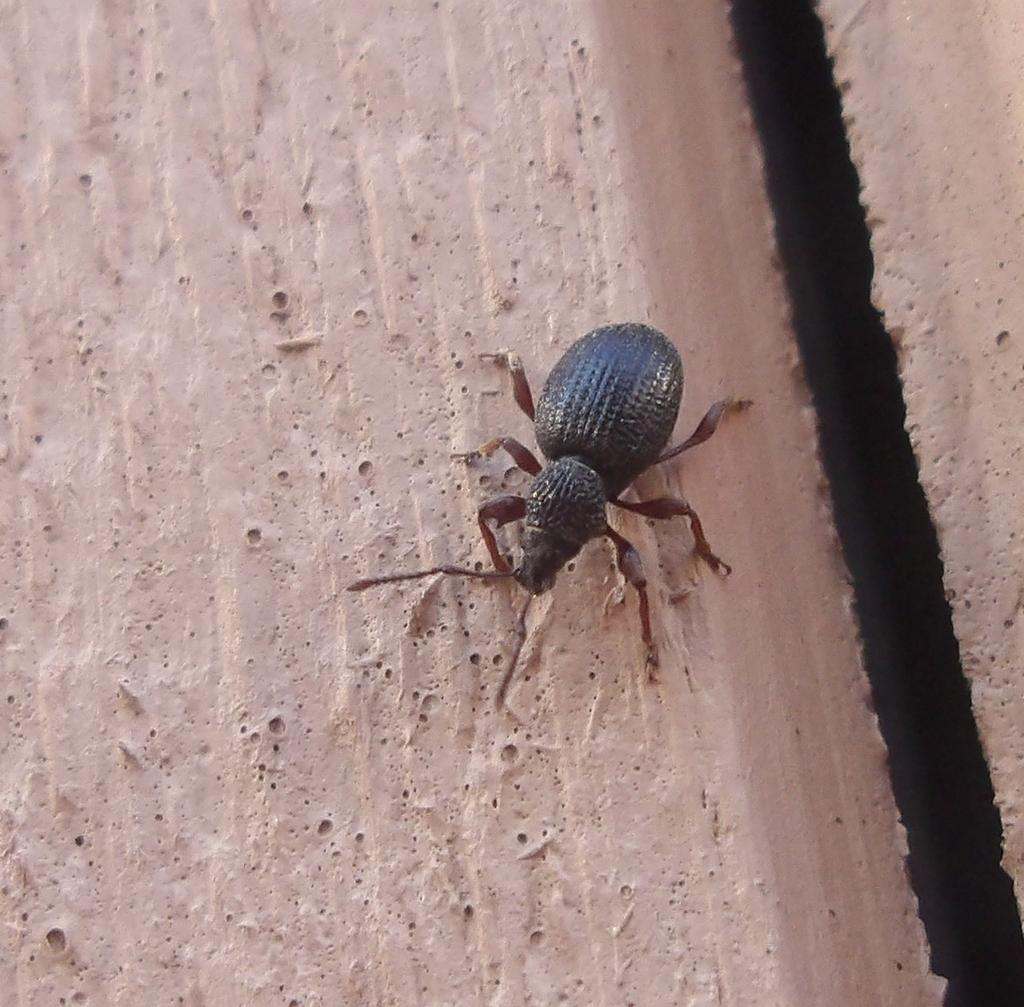weevils: (284, 254, 836, 740)
